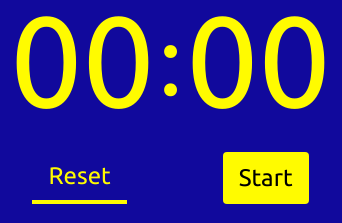
Scenario: Timer UI › should have a start button which changes to stop when clicked
# Click on Start button
Click the button with test id "start-button" at (266, 178), box [223,152,309,204]
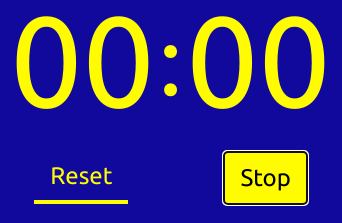
Check: the button with test id "stop-button" is shown, box [224,152,307,204]
Check: the button "Start" is gone
